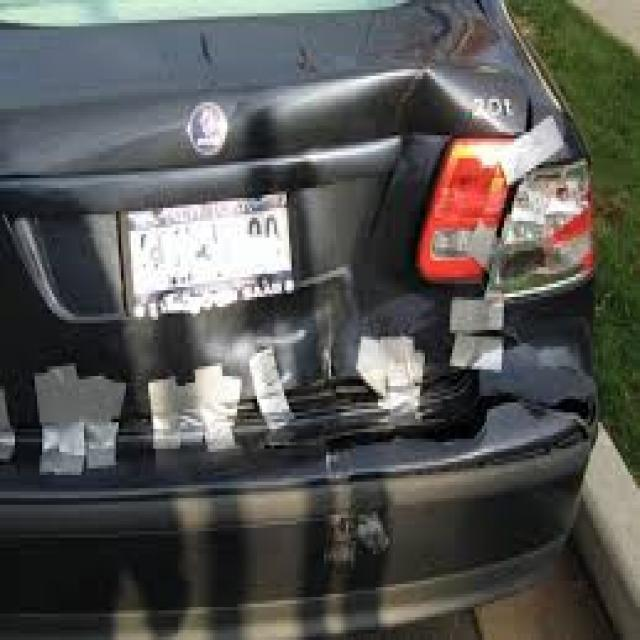damaged-trunk: (14, 11, 502, 390)
